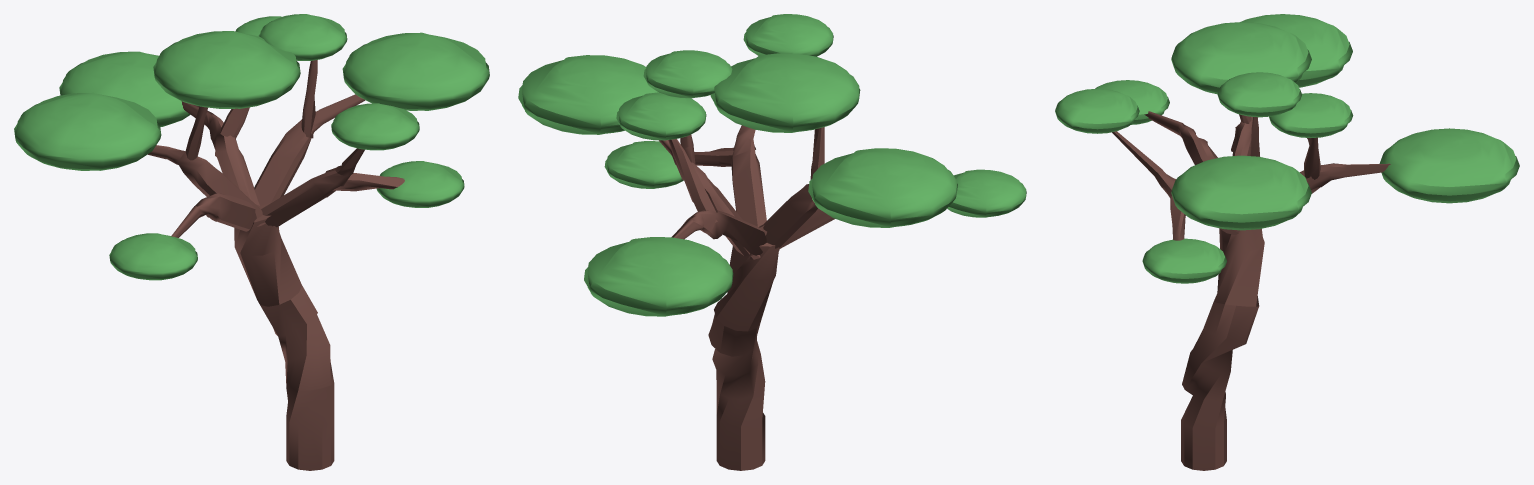
The model's file is treebushy.fbx.
3 renders of one model, left to right at view 1: azimuth 30°, elevation 25°; view 2: azimuth 150°, elevation 25°; view 3: azimuth 270°, elevation 25°, orthographic. The views are drawn at different scales.
Parts seen in each view (by area): view 1: polySurface85; view 2: polySurface85; view 3: polySurface85.
Part boxes in pixels (box(x1,y1,x2,y2)): polySurface85: box(14, 14, 489, 470); polySurface85: box(518, 14, 1026, 470); polySurface85: box(1055, 14, 1519, 470).
Size of the model in its own units: 20.86 by 19.03 by 20.3.
